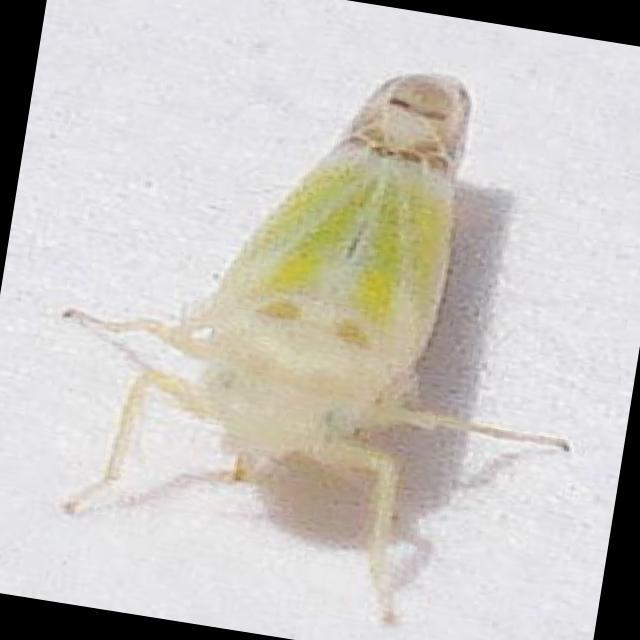green leaf hopper: (63, 75, 563, 621)
